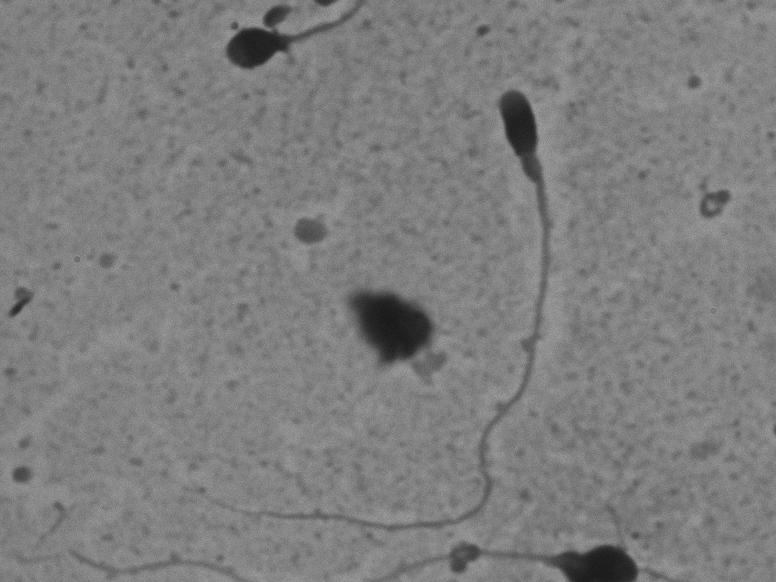Abnormal: (188, 79, 572, 541), (174, 2, 411, 127)
